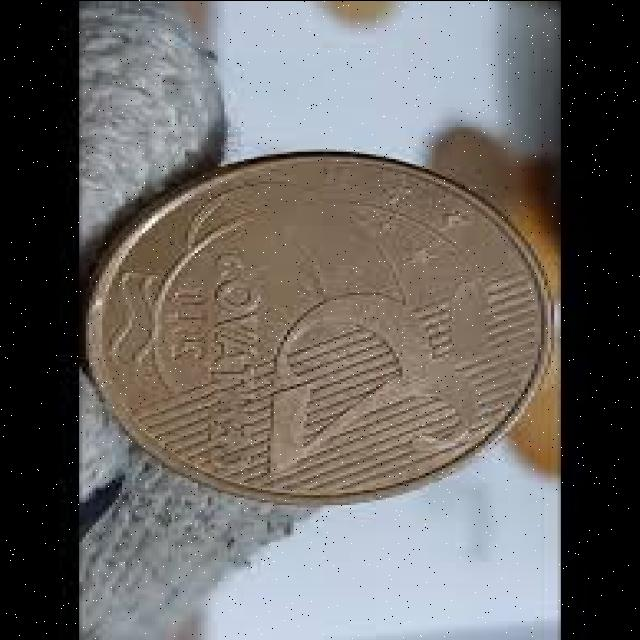25 cent: (102, 161, 557, 489)
